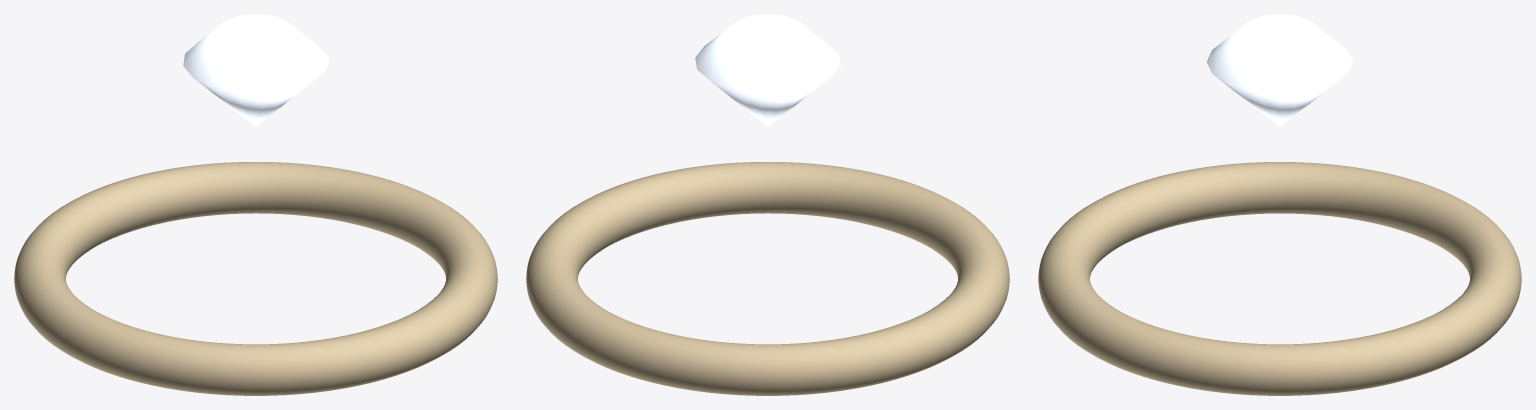
File: ring.glb
The picture shows the model from 3 angles, left to right: view 1: azimuth 30°, elevation 25°; view 2: azimuth 150°, elevation 25°; view 3: azimuth 270°, elevation 25°; orthographic projection.
Parts seen in each view (by area): view 1: jewel; view 2: jewel; view 3: jewel.
Part boxes in pixels (<box>): jewel: <box>14,14,497,395</box>; jewel: <box>526,14,1009,395</box>; jewel: <box>1038,14,1521,395</box>.
Bounding box in the file's own units: 2.24 × 1.39 × 2.24.
